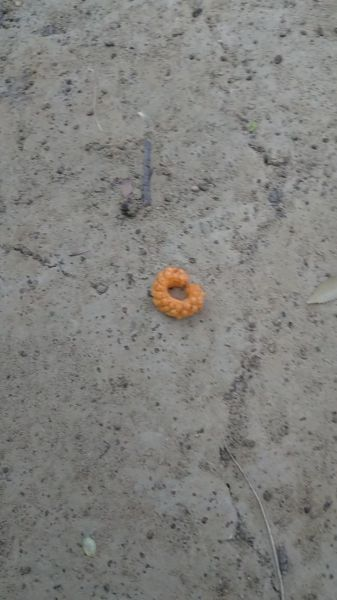eggs: (148, 260, 211, 327)
